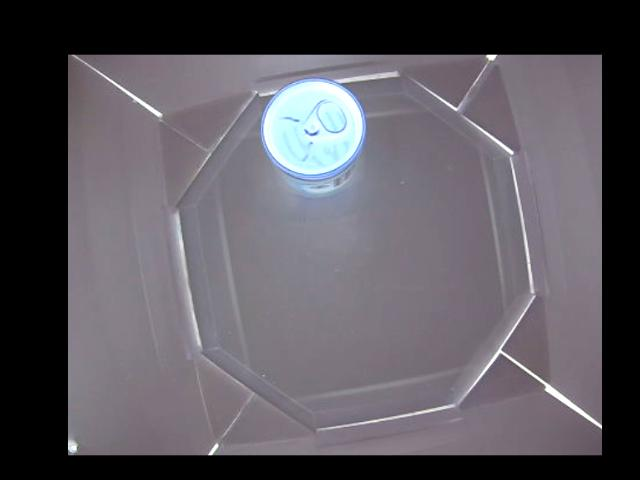Bottle: (259, 78, 366, 194)
